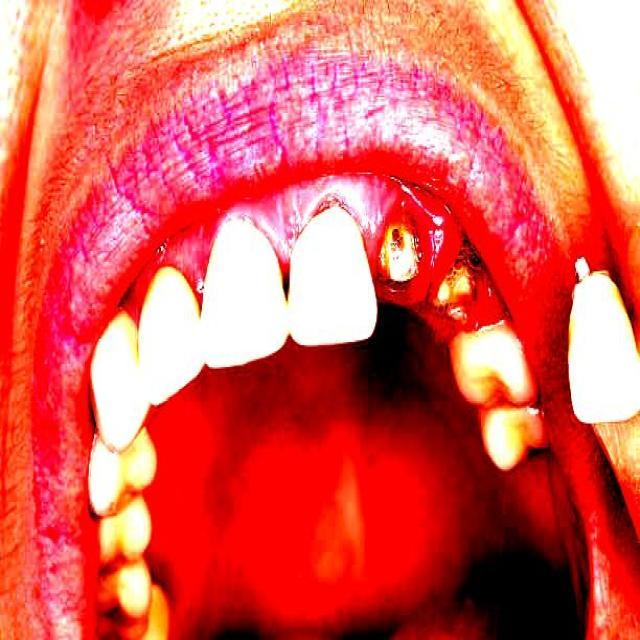caries: (433, 255, 494, 337), (372, 214, 432, 294)
